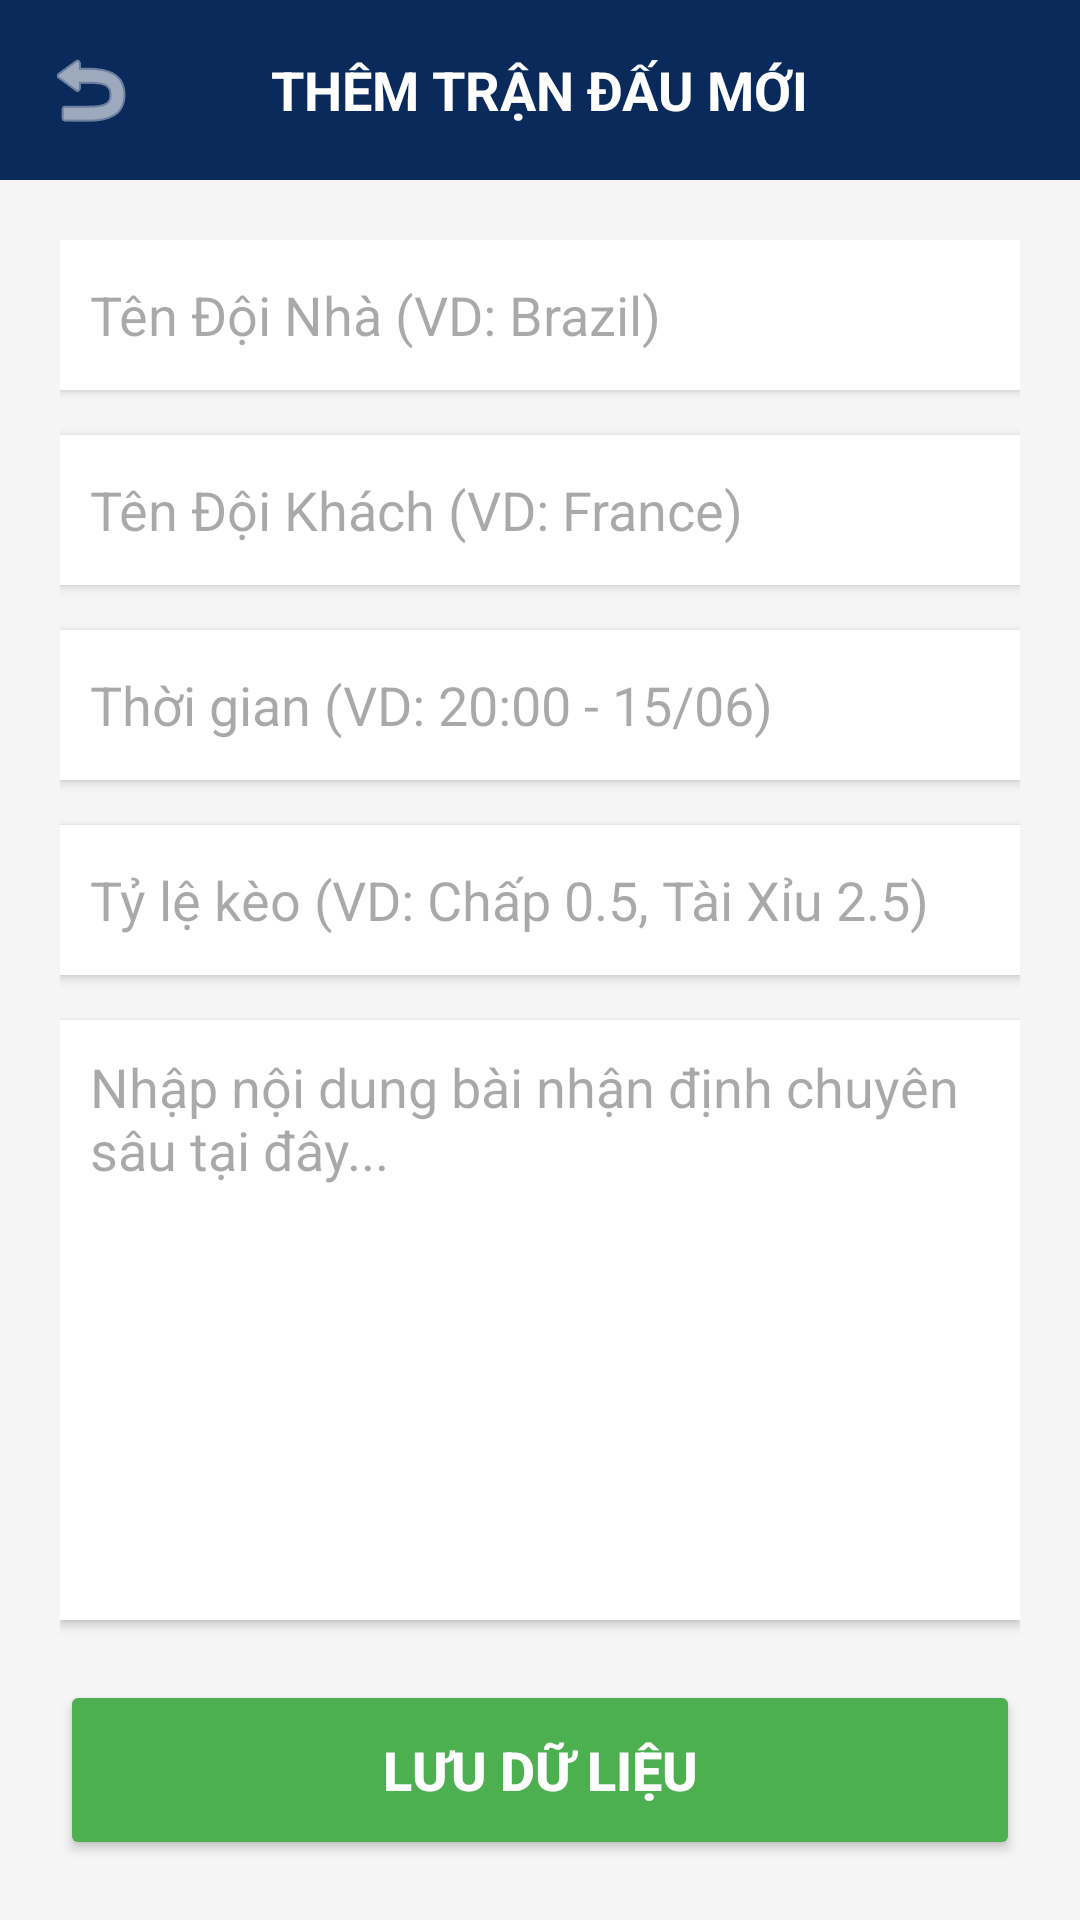

Point at icon controls on the screen. Image size 1080px×1920px, points as [x,y].
revert: [91,90]
